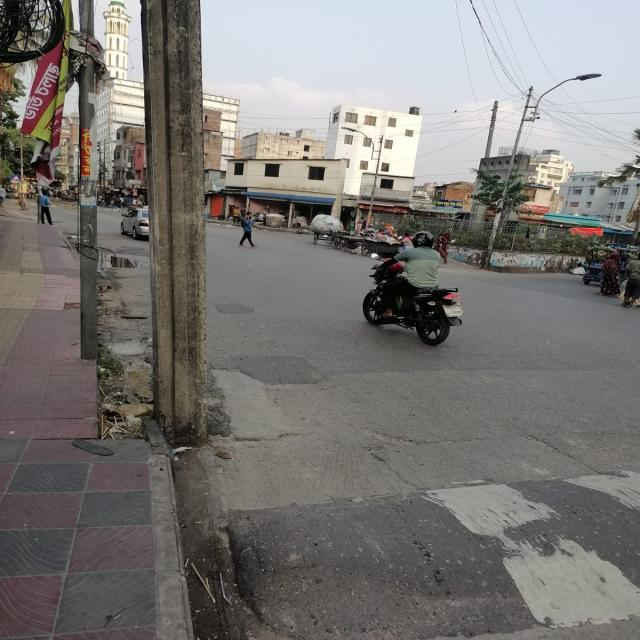person: (598, 250, 621, 296), (238, 212, 256, 248)
